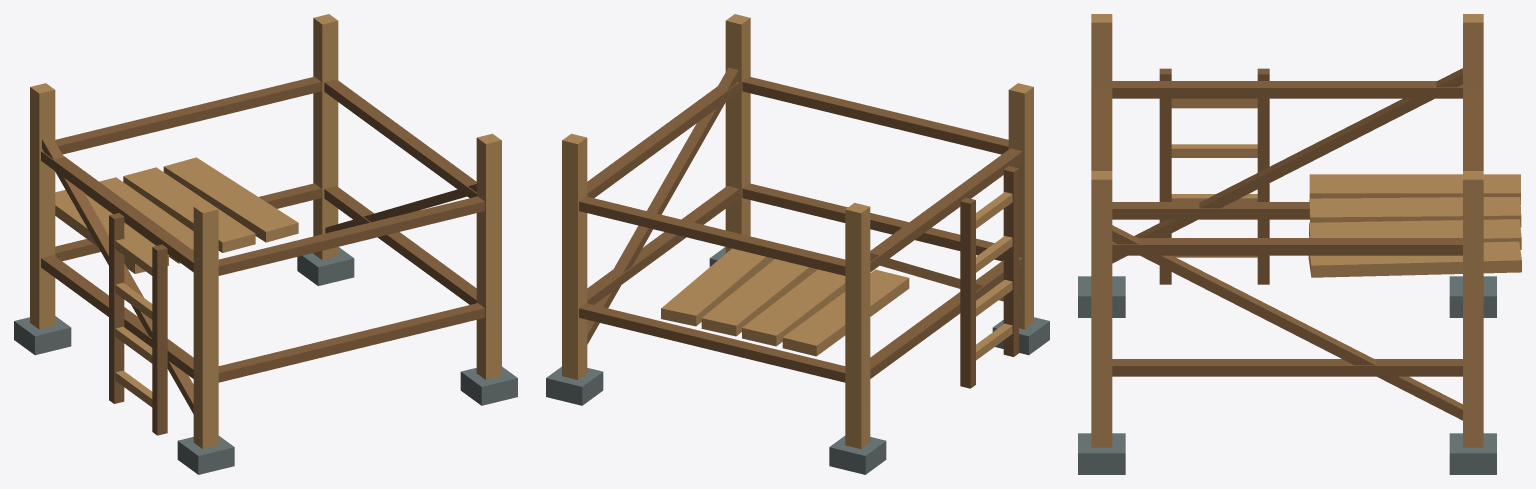
The model's file is ward_repair_scaffolding.glb.
The picture shows the model from 3 angles, left to right: view 1: azimuth 30°, elevation 25°; view 2: azimuth 150°, elevation 25°; view 3: azimuth 270°, elevation 25°; orthographic projection. The views are drawn at different scales.
Parts seen in each view (by area): view 1: Scaffold_Post_1, Scaffold_Post_2, Scaffold_Post_4, Scaffold_Post_3, Scaffold_Rail_2_1, Scaffold_Rail_1_1, Scaffold_Rail_2_3, Scaffold_Plank_4, Scaffold_Plank_3, Scaffold_Rail_2_2, Scaffold_Rail_2_4, Scaffold_Ladder_Left (+16 smaller); view 2: Scaffold_Post_4, Scaffold_Post_3, Scaffold_Post_2, Scaffold_Rail_2_3, Scaffold_Rail_1_3, Scaffold_Rail_2_1, Scaffold_Post_1, Scaffold_Plank_3, Scaffold_Plank_4, Scaffold_Plank_2, Scaffold_Plank_1, Scaffold_Brace_Right (+15 smaller); view 3: Scaffold_Rail_2_2, Scaffold_Rail_2_4, Scaffold_Rail_1_2, Scaffold_Post_2, Scaffold_Post_3, Scaffold_Brace_Right, Scaffold_Brace_Left, Scaffold_Plank_1, Scaffold_Plank_2, Scaffold_Plank_4, Scaffold_Plank_3, Scaffold_Rail_1_4 (+12 smaller).
Part boxes in pixels (box(x1,y1,x2,y2)): Scaffold_Post_1: box(193, 203, 218, 448); Scaffold_Post_2: box(476, 133, 501, 379); Scaffold_Post_4: box(30, 83, 55, 329); Scaffold_Post_3: box(313, 14, 338, 260); Scaffold_Rail_2_1: box(218, 196, 484, 275); Scaffold_Rail_1_1: box(218, 303, 484, 382); Scaffold_Rail_2_3: box(55, 76, 321, 154); Scaffold_Plank_4: box(163, 157, 298, 242); Scaffold_Plank_3: box(123, 167, 255, 252); Scaffold_Rail_2_2: box(324, 79, 476, 197); Scaffold_Rail_2_4: box(41, 151, 193, 272); Scaffold_Ladder_Left: box(152, 244, 167, 435); Scaffold_Post_4: box(845, 203, 870, 448); Scaffold_Post_3: box(562, 133, 587, 379); Scaffold_Post_2: box(725, 14, 750, 253); Scaffold_Rail_2_3: box(579, 196, 845, 275); Scaffold_Rail_1_3: box(579, 303, 845, 382); Scaffold_Rail_2_1: box(742, 76, 1008, 154); Scaffold_Post_1: box(1008, 83, 1033, 329); Scaffold_Plank_3: box(701, 259, 817, 336); Scaffold_Plank_4: box(661, 248, 774, 326); Scaffold_Plank_2: box(742, 269, 845, 346); Scaffold_Plank_1: box(782, 269, 909, 356); Scaffold_Brace_Right: box(587, 67, 738, 344); Scaffold_Rail_2_2: box(1112, 238, 1462, 255); Scaffold_Rail_2_4: box(1112, 81, 1462, 98); Scaffold_Rail_1_2: box(1112, 359, 1462, 376); Scaffold_Post_2: box(1091, 171, 1112, 447); Scaffold_Post_3: box(1463, 171, 1483, 447); Scaffold_Brace_Right: box(1112, 225, 1462, 420); Scaffold_Brace_Left: box(1112, 68, 1462, 263); Scaffold_Plank_1: box(1309, 174, 1520, 204); Scaffold_Plank_2: box(1309, 196, 1521, 227); Scaffold_Plank_4: box(1308, 241, 1521, 277); Scaffold_Plank_3: box(1309, 219, 1521, 249); Scaffold_Rail_1_4: box(1112, 202, 1309, 219).
Bounding box in the file's own units: 2.87 × 2.15 × 2.99.
